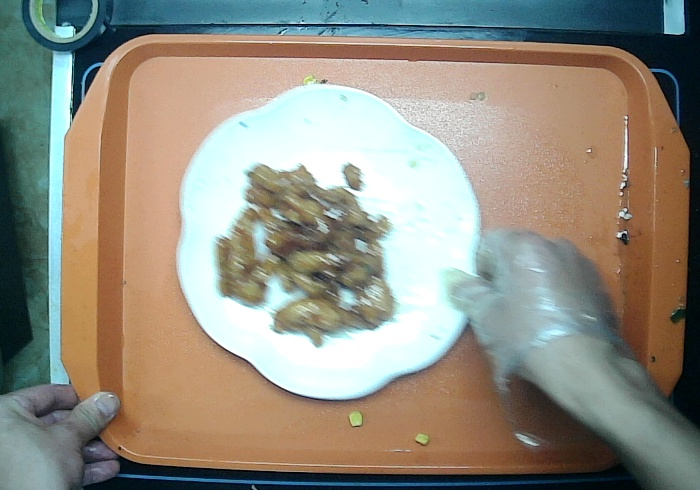HZYJPL-Bai_Se_Hua_Duo_Wan: (176, 81, 482, 402)
